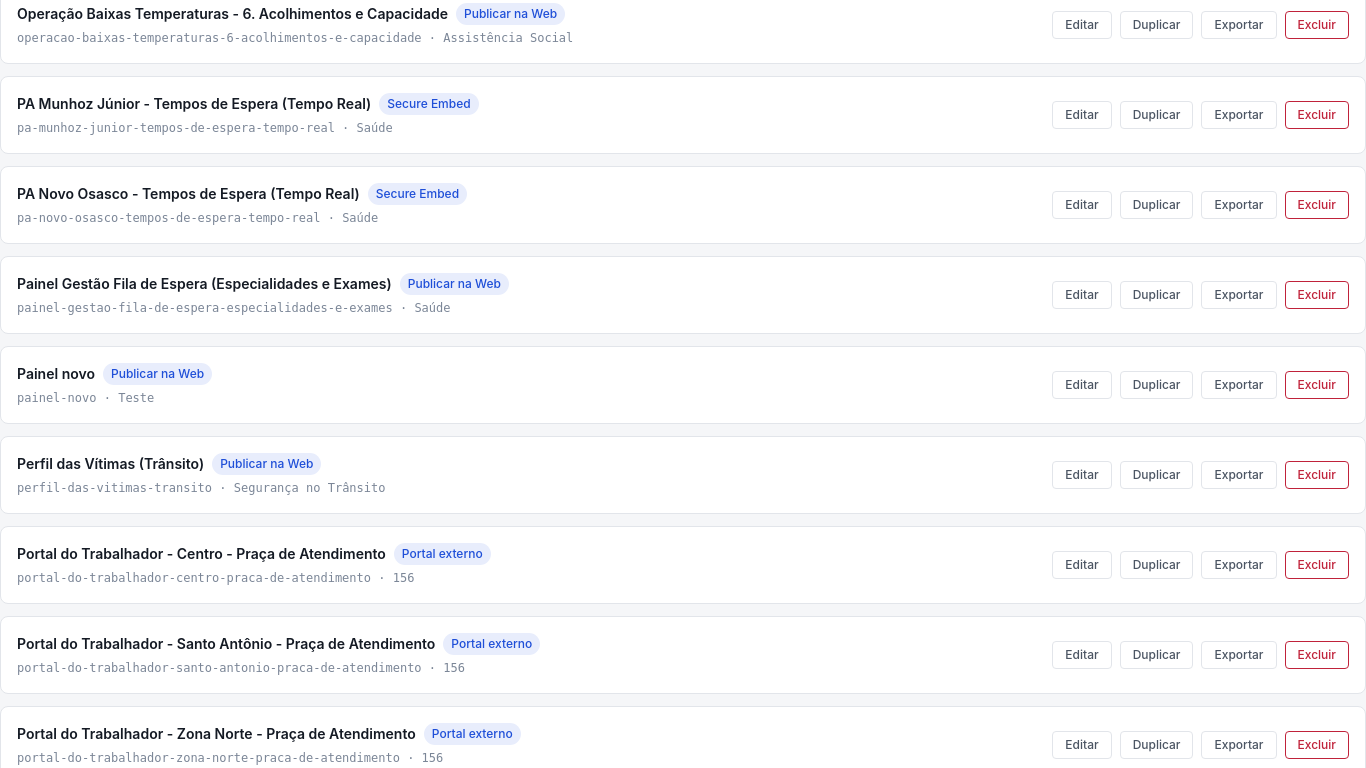
Test case: AdminPanelsPage › exclui um painel custom
(page scrolled)
Step 1. Click the button "Excluir" in the row of "Painel novo" → (1317, 385), box [1284,371,1349,399]
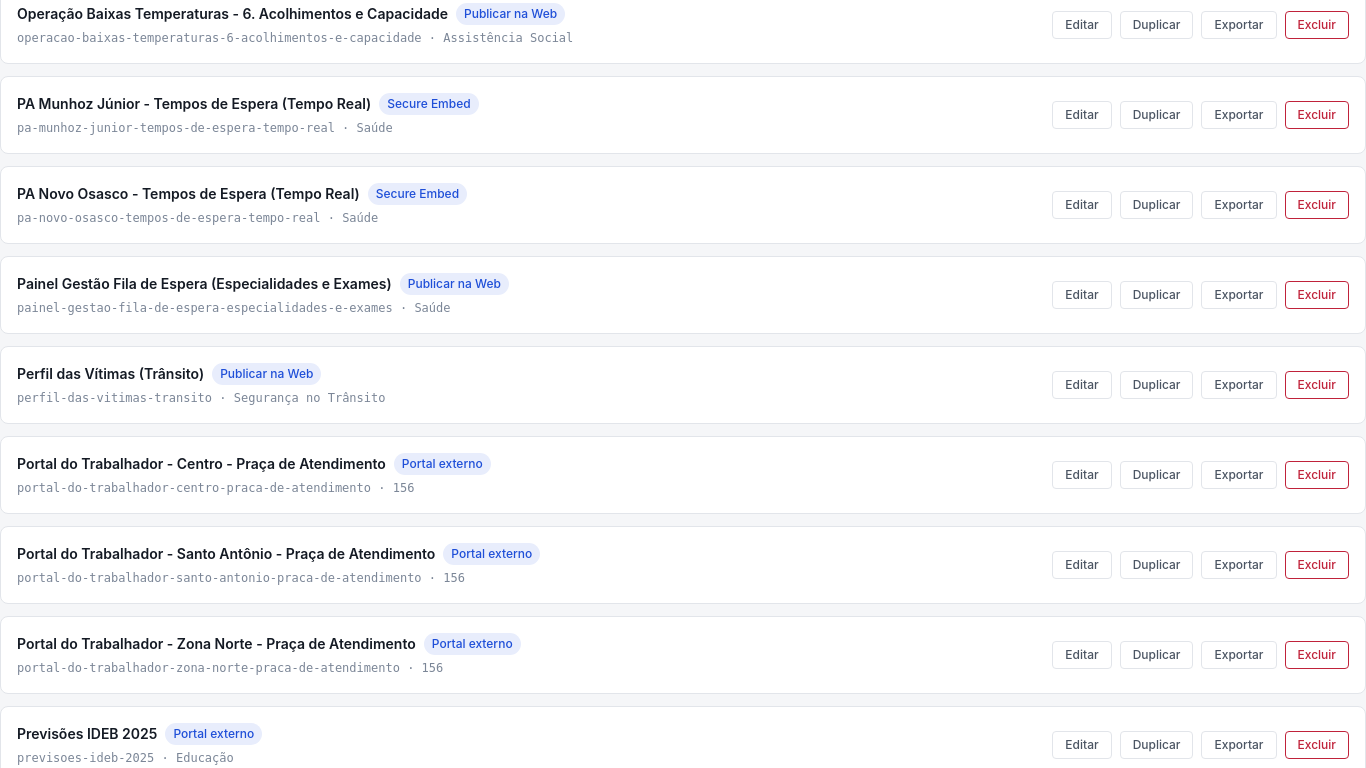
Expected: the text "Painel novo" is gone
